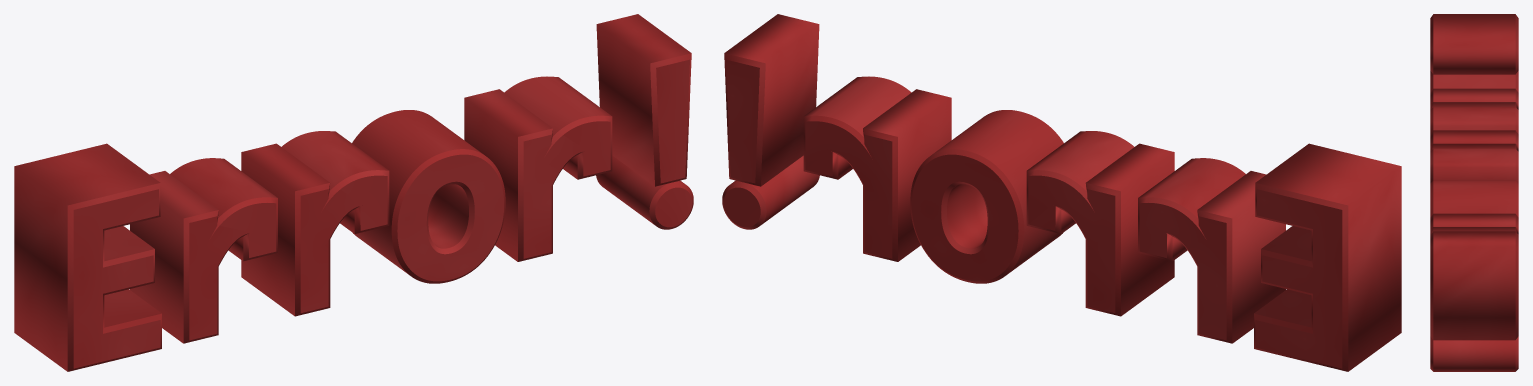
File: error.obj
The picture shows the model from 3 angles, left to right: view 1: azimuth 30°, elevation 25°; view 2: azimuth 150°, elevation 25°; view 3: azimuth 270°, elevation 25°; orthographic projection. The views are drawn at different scales.
Parts seen in each view (by area): view 1: Text.001_CUText.002; view 2: Text.001_CUText.002; view 3: Text.001_CUText.002.
Part boxes in pixels (x1,y1,x2,y2): Text.001_CUText.002: (14, 14, 693, 371); Text.001_CUText.002: (722, 14, 1401, 371); Text.001_CUText.002: (1430, 14, 1518, 371).
Size of the model in its own units: 4.1 by 1.07 by 0.656.
